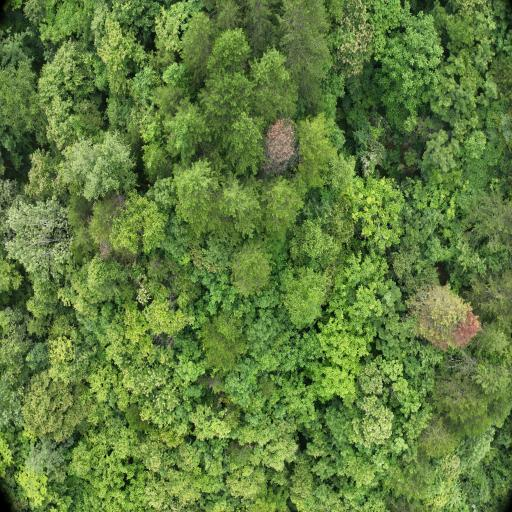sick-tree: (429, 296, 476, 344), (269, 128, 293, 174)
